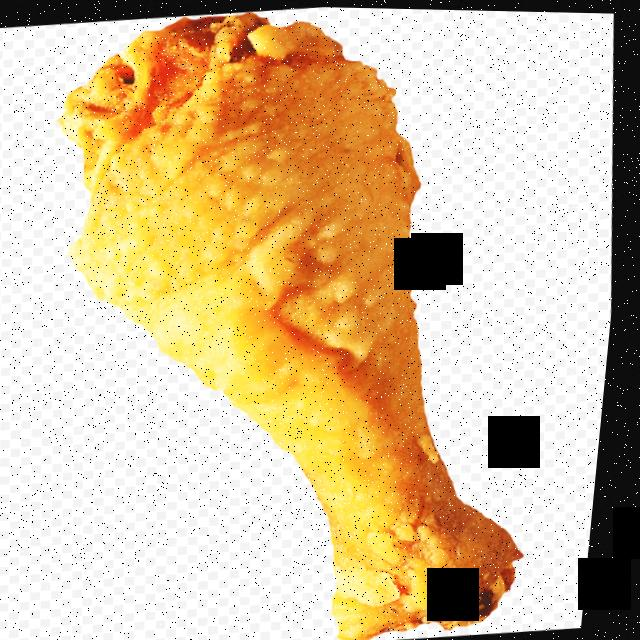Frango: (16, 1, 576, 640)
